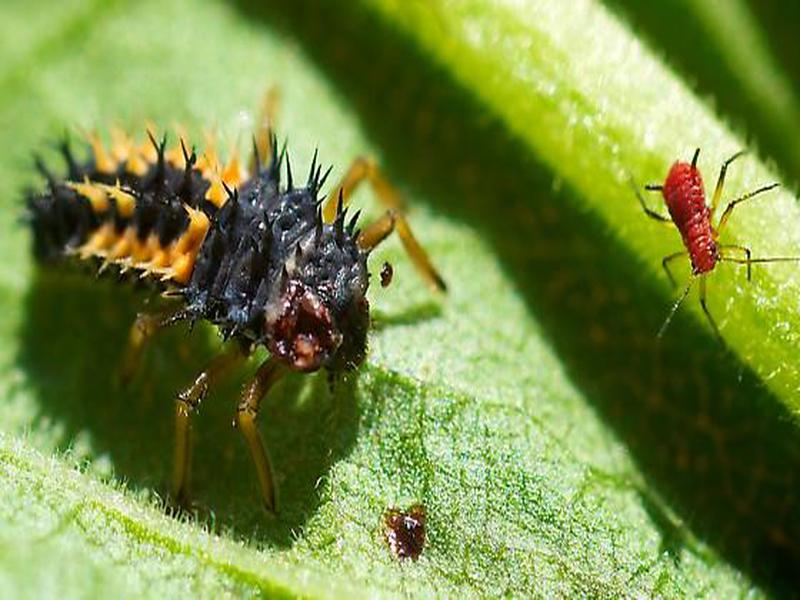Spiny_beetle: (13, 141, 409, 434), (588, 145, 772, 294)
